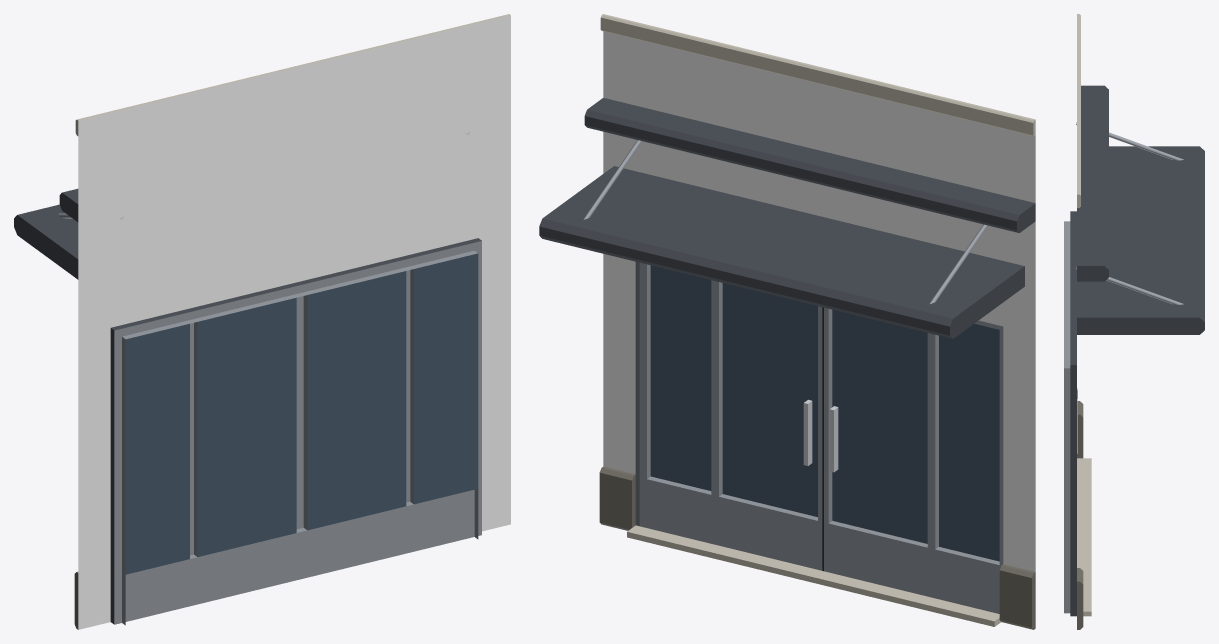
The model's file is off_ground_door.glb.
3 renders of one model, left to right at view 1: azimuth 30°, elevation 25°; view 2: azimuth 150°, elevation 25°; view 3: azimuth 270°, elevation 25°, orthographic. The views are drawn at different scales.
Visible parts, largest first — view 1: off_ground_door__mesh; view 2: off_ground_door__mesh; view 3: off_ground_door__mesh.
Boxes of the visible parts, x1,y1,x2,y2 form: off_ground_door__mesh: (14,14,510,629); off_ground_door__mesh: (539,14,1035,629); off_ground_door__mesh: (1064,14,1204,629).
Size of what is drawn, in the model's own units: 4 by 4.5 by 1.32.
Materials: 2 (1 with a texture image).
